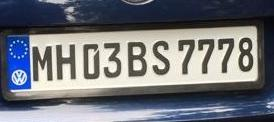0: (81, 42, 100, 78)
3: (101, 41, 122, 77)
7: (195, 37, 215, 74), (175, 38, 195, 74), (216, 37, 234, 72)
8: (237, 36, 254, 72)
B: (126, 40, 147, 77)
H: (54, 43, 76, 79)
M: (30, 44, 52, 81)
S: (150, 39, 170, 75)
